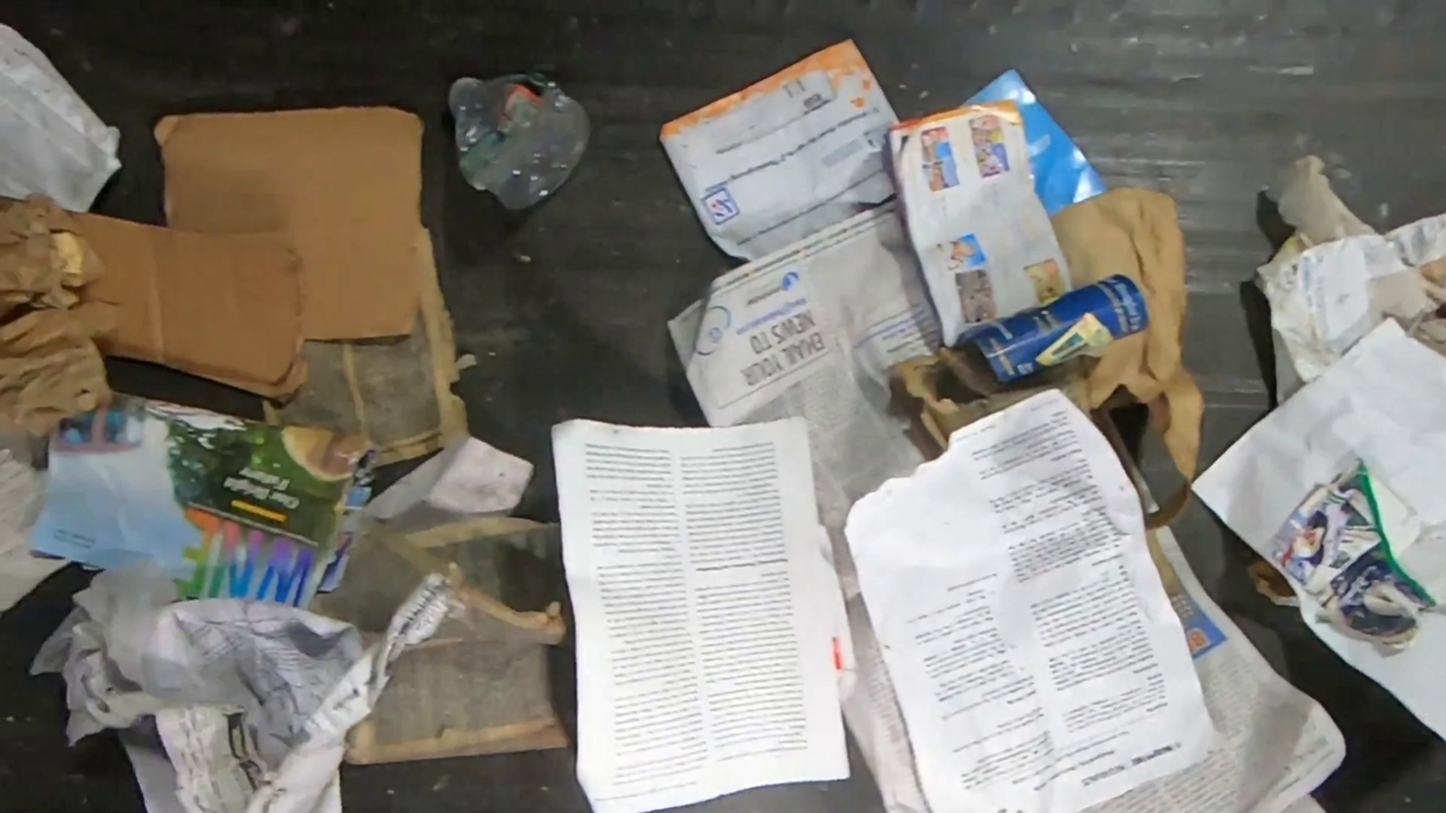cardboard: (152, 107, 430, 340), (71, 211, 310, 399)
plastic: (449, 70, 594, 209)
